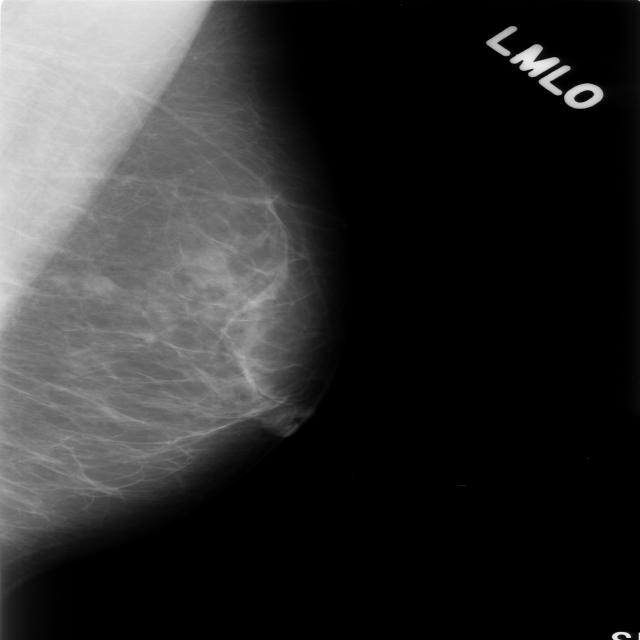normal: (0, 0, 334, 550)
